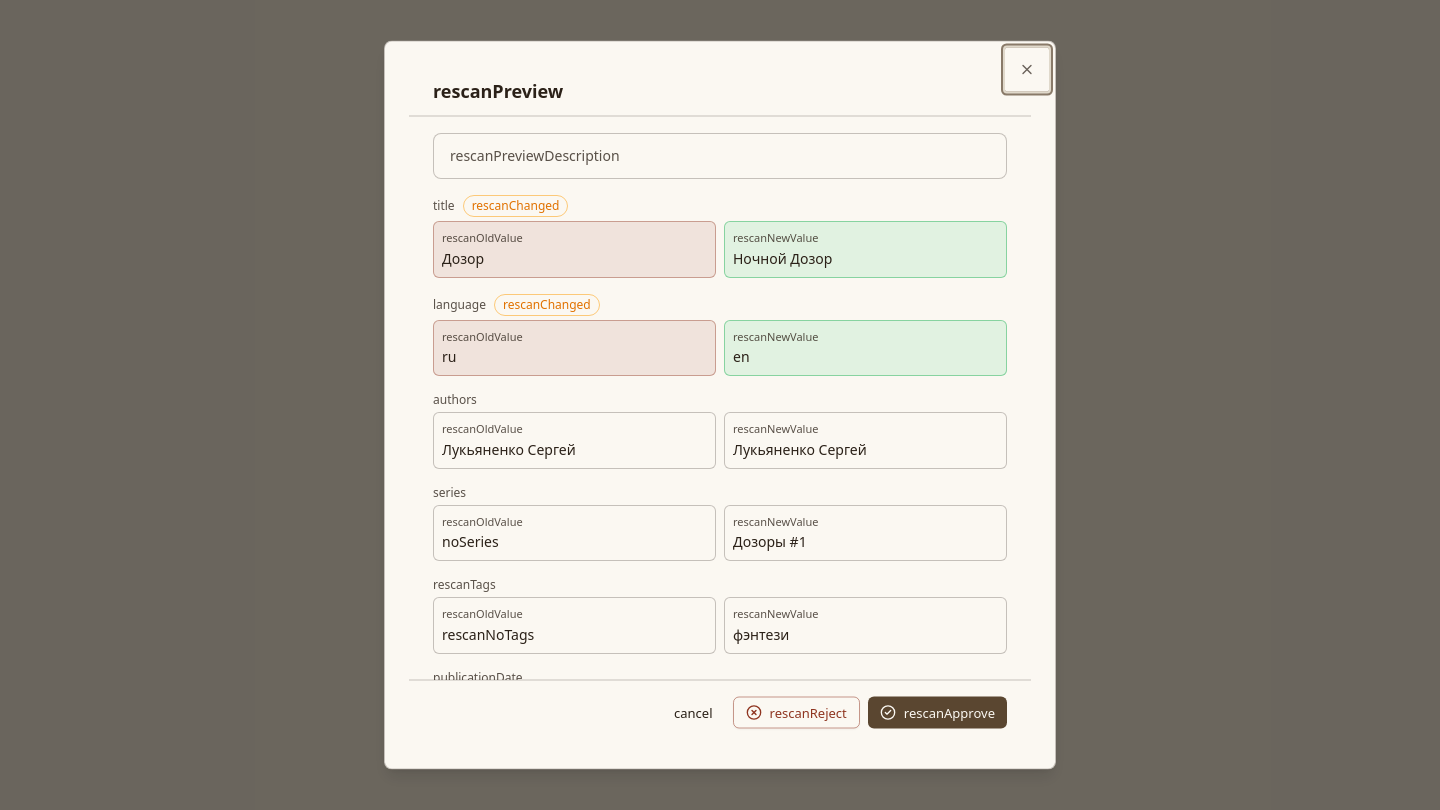
Scenario: RescanPreviewDialog › keeps the dialog open when the decision itself fails
Check: the text "Ночной Дозор" is shown, box [733,248,832,267]
Click the button "rescanApprove". click: [937, 712]
box: [868,696,1007,728]
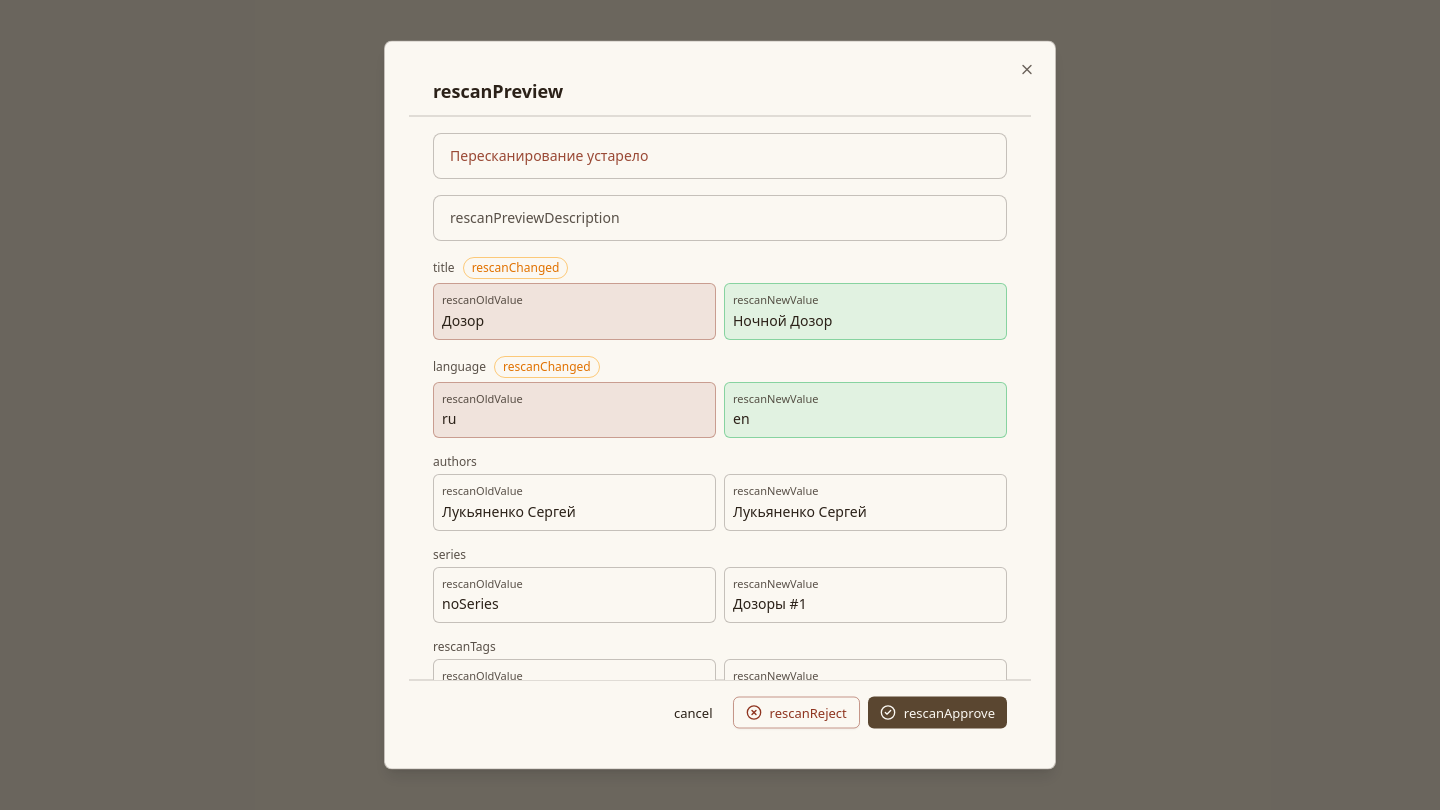
Check: the text "Пересканирование устарело" is shown, box [450,146,648,164]
